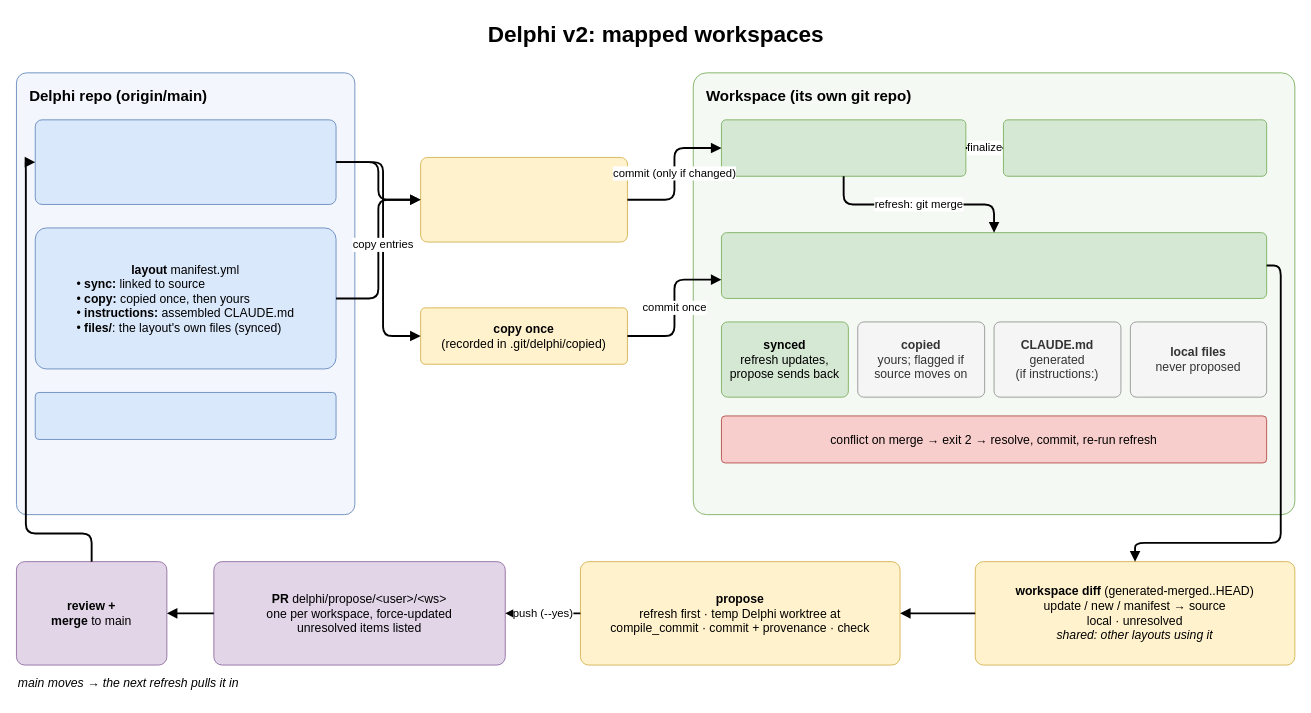
This 1311x713 diagram has some shape labels left out. Here are the shapes that lost their labels. From the top down, the centre of each, then its label:
(x=185, y=161): context/ sources by scope blocks · docs · harness/skills · instructions
(x=843, y=147): generated branch compile history only
(x=1135, y=147): generated-merged tag last compile merged into working
(x=523, y=199): compile 1:1 copy per entry + .delphi/lock.tsv (dest ↔ source)
(x=994, y=265): working branch: you edit and commit here
(x=185, y=415): moves.tsv (renames, followed on refresh)
